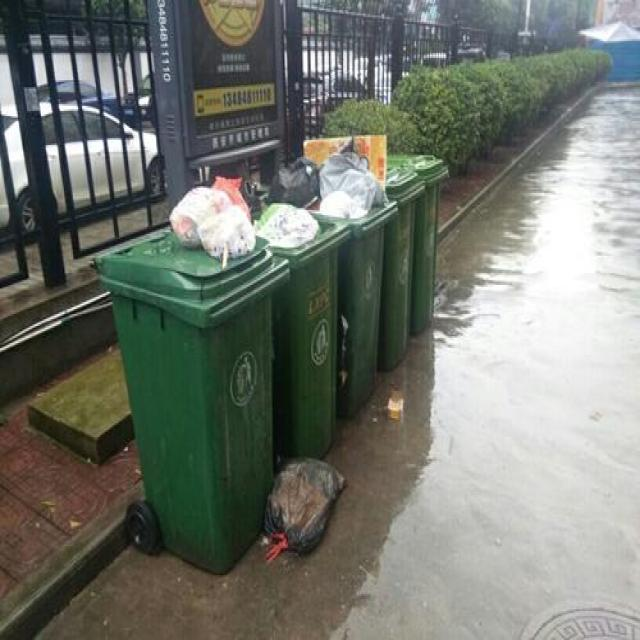garbage: (261, 456, 344, 560), (386, 389, 404, 417)
garbage_bin: (388, 150, 450, 331), (380, 164, 425, 370)
overflow: (90, 174, 289, 572), (304, 135, 399, 416), (250, 201, 350, 461)
